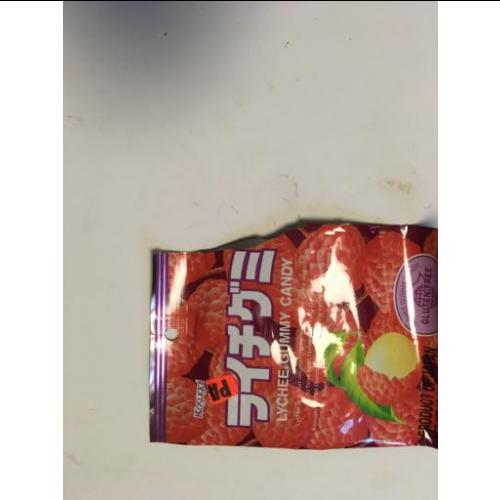plastic: (151, 222, 439, 446)
